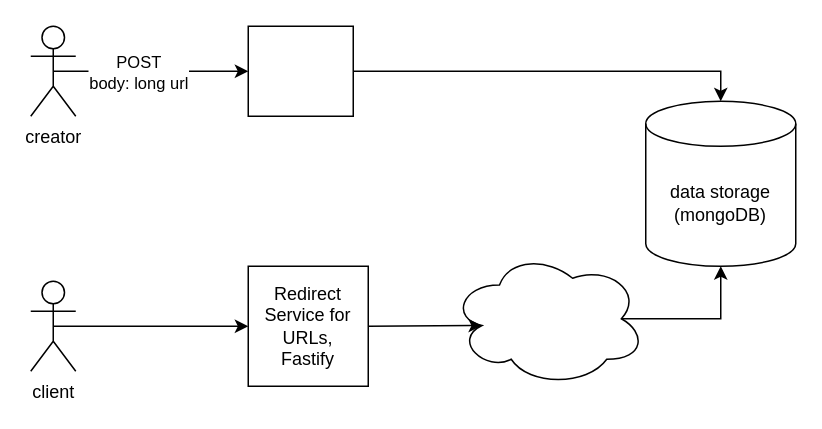
Image size: 822x429. Some labels were removed from this diagram. Each missing label, with the centre of its shape:
"CRUD for shortened URLs, Fast API" goes at pixel 300 70.
"Distributed Cache Redis" goes at pixel 547 318.
